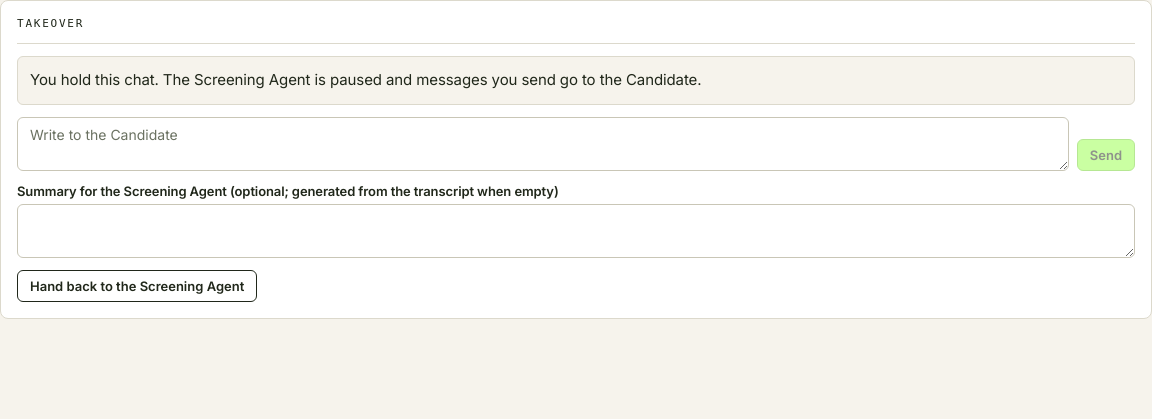
Test: TakeoverPanel modes › keeps the typed text and explains a refusal outside WhatsApp's 24-hour window
Type "Hola Luis" into the text box named "Message to the Candidate" at (543, 144), box x1=17 y1=117 x2=1069 y2=171
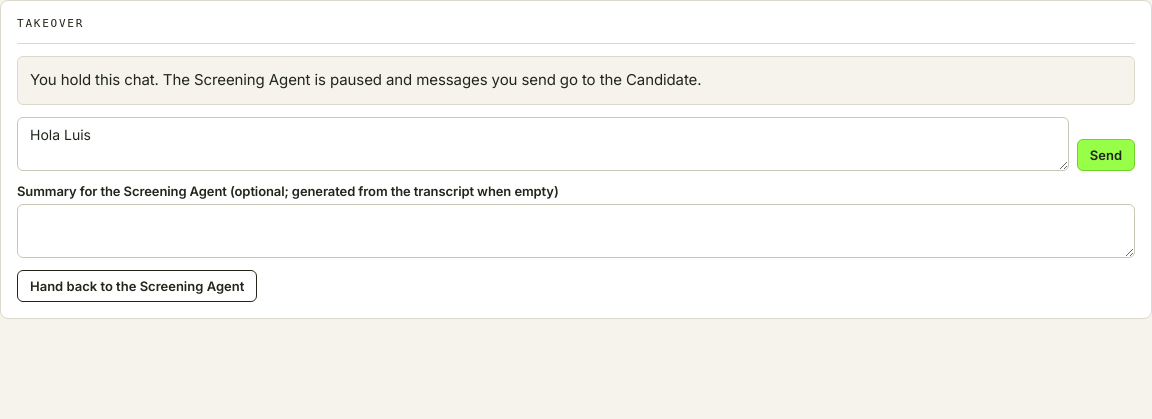
Click the button "Send" at (1106, 155), box x1=1077 y1=139 x2=1135 y2=171
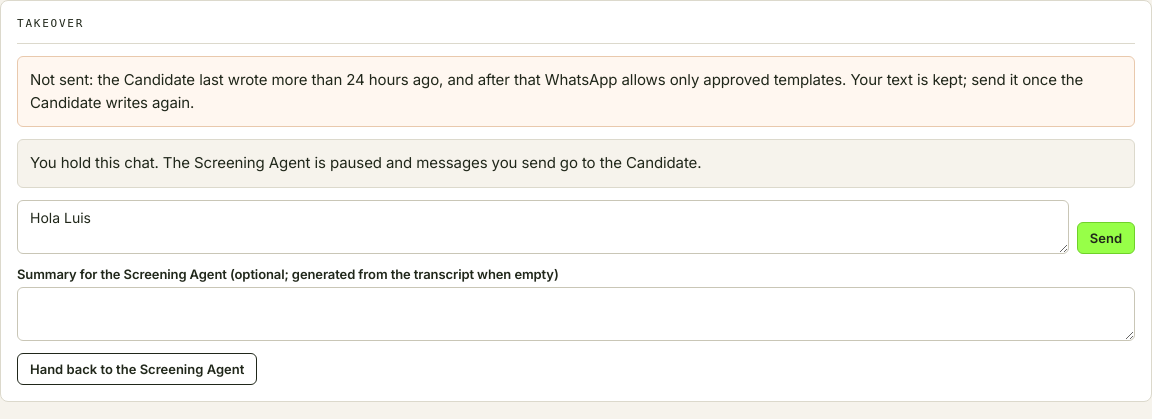
Check: the message shows "more than 24 hours ago", box x1=30 y1=70 x2=1083 y2=112
Check: the message shows "Your text is kept", box x1=30 y1=70 x2=1083 y2=112
